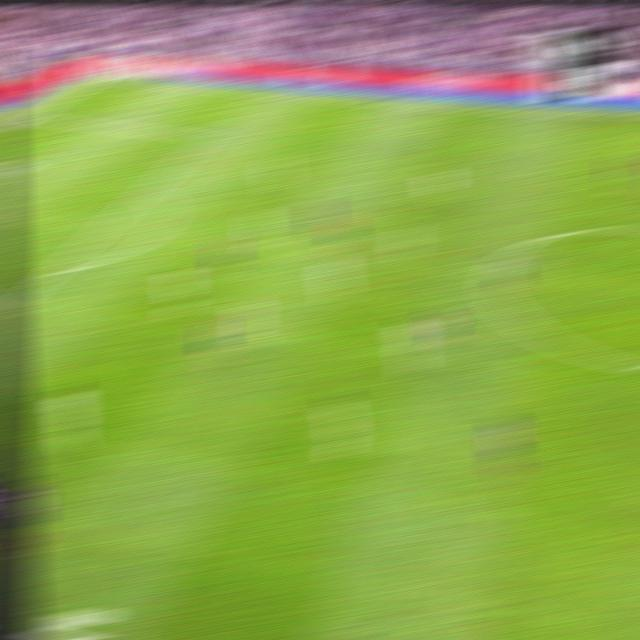bigarea_top_inner: (196, 128, 219, 144)
bottom_arc_area_intersection: (40, 262, 66, 280)
smallarea_top_inner: (10, 160, 34, 172)
top_arc_area_intersection: (136, 181, 159, 195)
